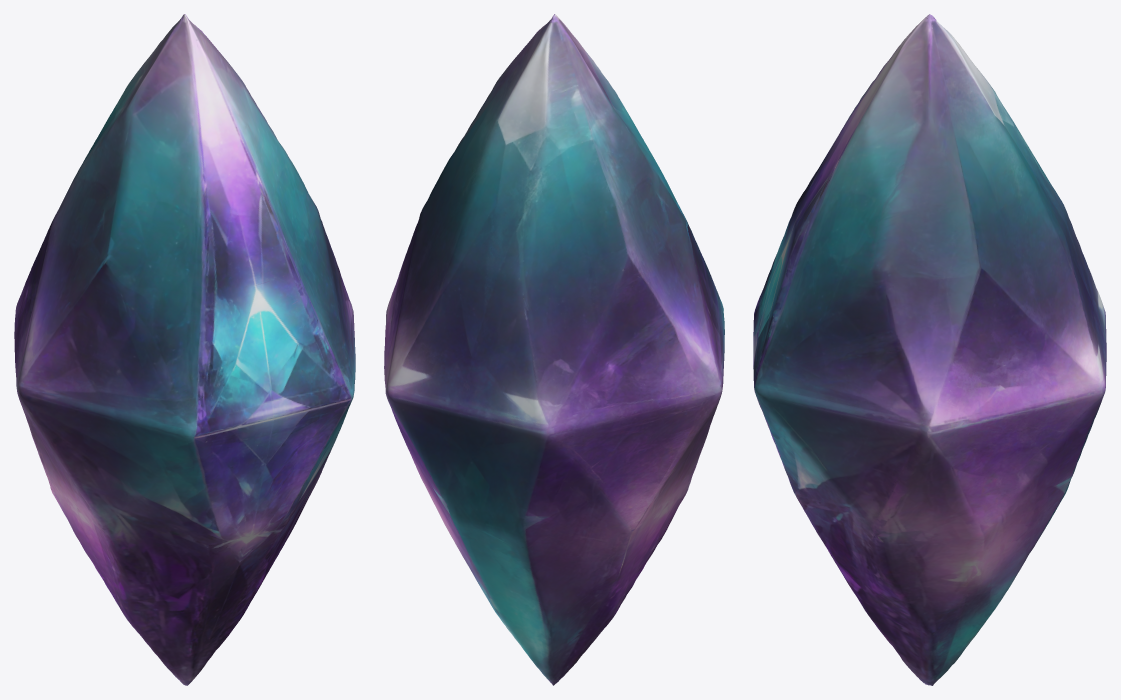
Rendered from Create_a_floating_cry_0113035409_texture.fbx.
The picture shows the model from 3 angles, left to right: view 1: azimuth 30°, elevation 25°; view 2: azimuth 150°, elevation 25°; view 3: azimuth 270°, elevation 25°; orthographic projection.
Parts seen in each view (by area): view 1: Mesh1_Mesh1.076; view 2: Mesh1_Mesh1.076; view 3: Mesh1_Mesh1.076.
Part boxes in pixels (x1,y1,x2,y2): Mesh1_Mesh1.076: [14, 14, 355, 685]; Mesh1_Mesh1.076: [384, 14, 724, 685]; Mesh1_Mesh1.076: [753, 14, 1106, 685].
Bounding box in the file's own units: 103 × 199 × 94.71.
Materials: 1 (1 with a texture image).
